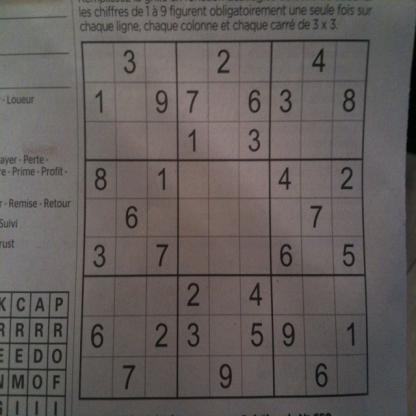sudoku: (77, 35, 373, 405)
